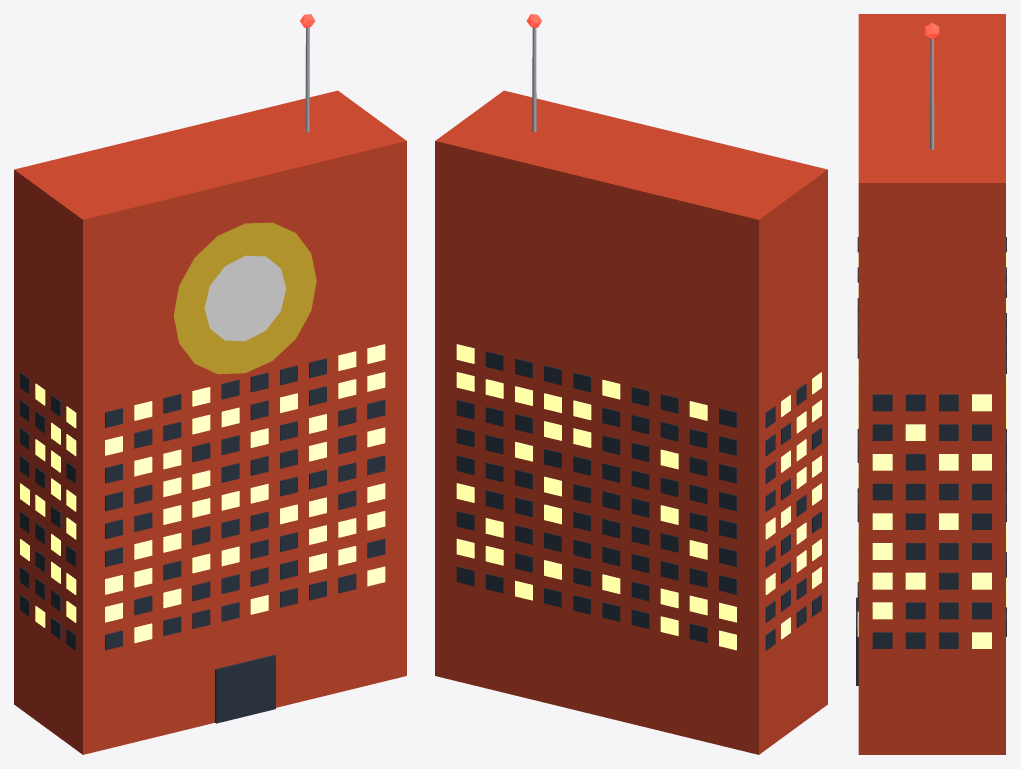
The model's file is building_tower.glb.
The picture shows the model from 3 angles, left to right: view 1: azimuth 30°, elevation 25°; view 2: azimuth 150°, elevation 25°; view 3: azimuth 270°, elevation 25°; orthographic projection. The views are drawn at different scales.
Visible parts, largest first — view 1: building_tower, group_3, group_222; view 2: building_tower, group_94, group_222; view 3: building_tower, group_185, group_3, group_94.
Boxes of the visible parts, <box> form: building_tower: <box>14,14,406,754</box>; group_3: <box>105,344,385,650</box>; group_222: <box>20,372,76,650</box>; building_tower: <box>435,14,827,754</box>; group_94: <box>456,344,736,650</box>; group_222: <box>765,372,821,650</box>; building_tower: <box>856,14,1005,754</box>; group_185: <box>872,394,991,648</box>; group_3: <box>857,237,858,636</box>; group_94: <box>1006,237,1006,636</box>.
Bounding box in the file's own units: 19.1 × 36.54 × 7.18.
